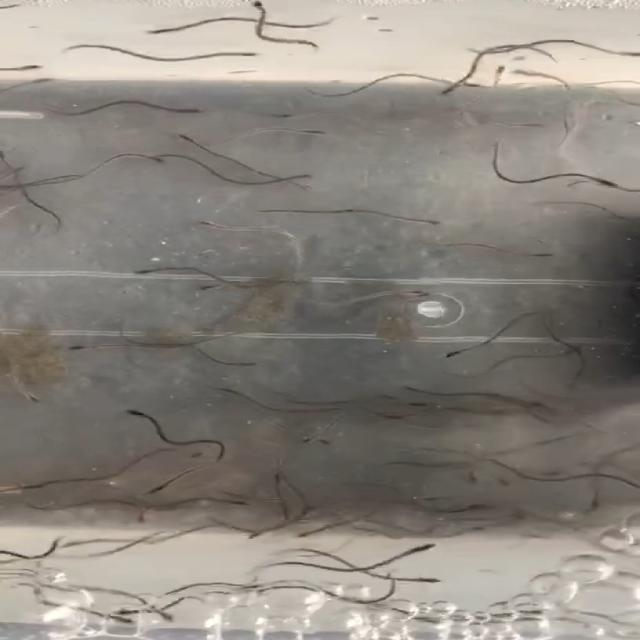active_glass_eel: (52, 335, 105, 360), (186, 378, 242, 398), (288, 524, 352, 541), (434, 346, 481, 369), (2, 57, 52, 76), (266, 98, 304, 122), (165, 103, 216, 120), (219, 355, 258, 376), (384, 284, 428, 302), (284, 169, 333, 185), (228, 47, 279, 62), (185, 213, 221, 234), (20, 474, 51, 498), (407, 393, 442, 414), (412, 212, 442, 236), (111, 406, 151, 424), (402, 540, 452, 554), (10, 390, 46, 409), (166, 128, 203, 146), (293, 430, 332, 447), (133, 483, 174, 497), (218, 494, 262, 507), (301, 124, 337, 139), (191, 280, 226, 295), (430, 80, 459, 98), (595, 173, 623, 191), (130, 266, 166, 280), (141, 154, 170, 168), (246, 2, 275, 15), (492, 62, 508, 79)
